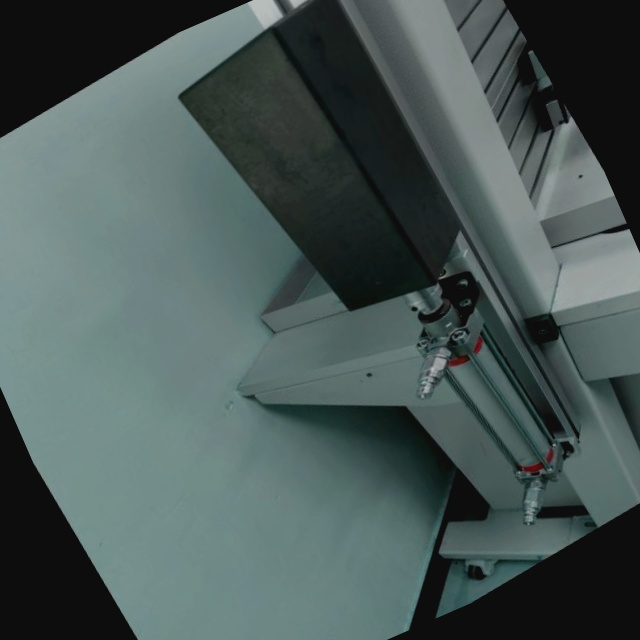load: (128, 0, 640, 622)
